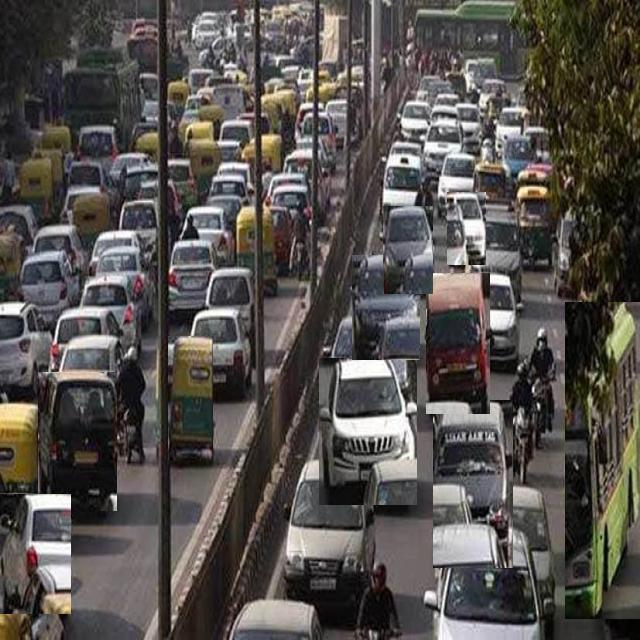autorickshaw: (169, 337, 213, 461)
bus: (565, 302, 640, 619)
car: (424, 527, 554, 638), (320, 359, 417, 505), (284, 460, 376, 605), (434, 401, 513, 568), (39, 373, 117, 511), (0, 494, 71, 614), (352, 255, 420, 360), (190, 308, 251, 396), (465, 205, 521, 299), (384, 207, 433, 294), (479, 274, 519, 362), (448, 192, 486, 265)
truck: (426, 273, 490, 414)
